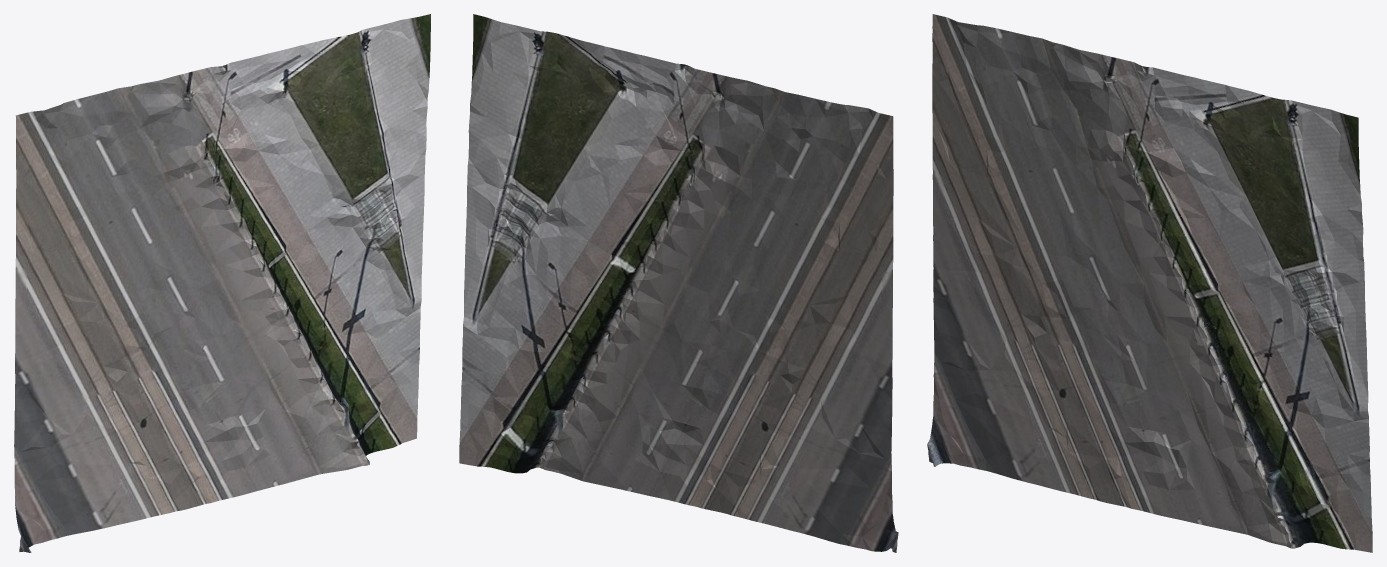
Rendered from Tile_+032_+022_L21_00003300.obj.
The picture shows the model from 3 angles, left to right: view 1: azimuth 30°, elevation 25°; view 2: azimuth 150°, elevation 25°; view 3: azimuth 330°, elevation 25°; orthographic projection. The views are drawn at different scales.
Size of the model in its own units: 31.38 by 31.38 by 2.7.
Materials: 1 (1 with a texture image).
